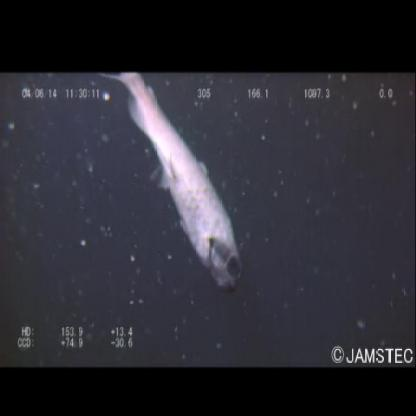Bio: (102, 72, 244, 294)
